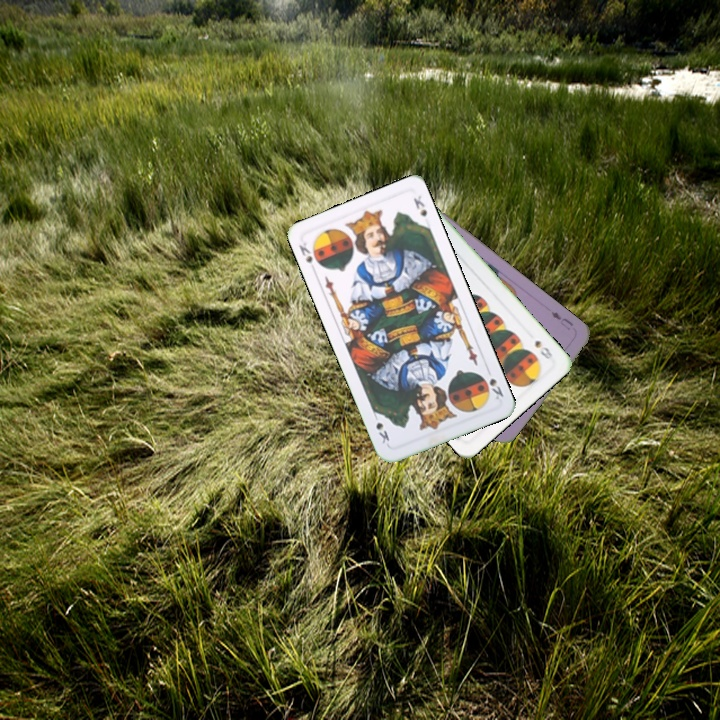EU: (547, 307, 576, 333)
S8: (531, 336, 557, 363)
SK: (295, 238, 319, 275), (485, 374, 506, 402)
